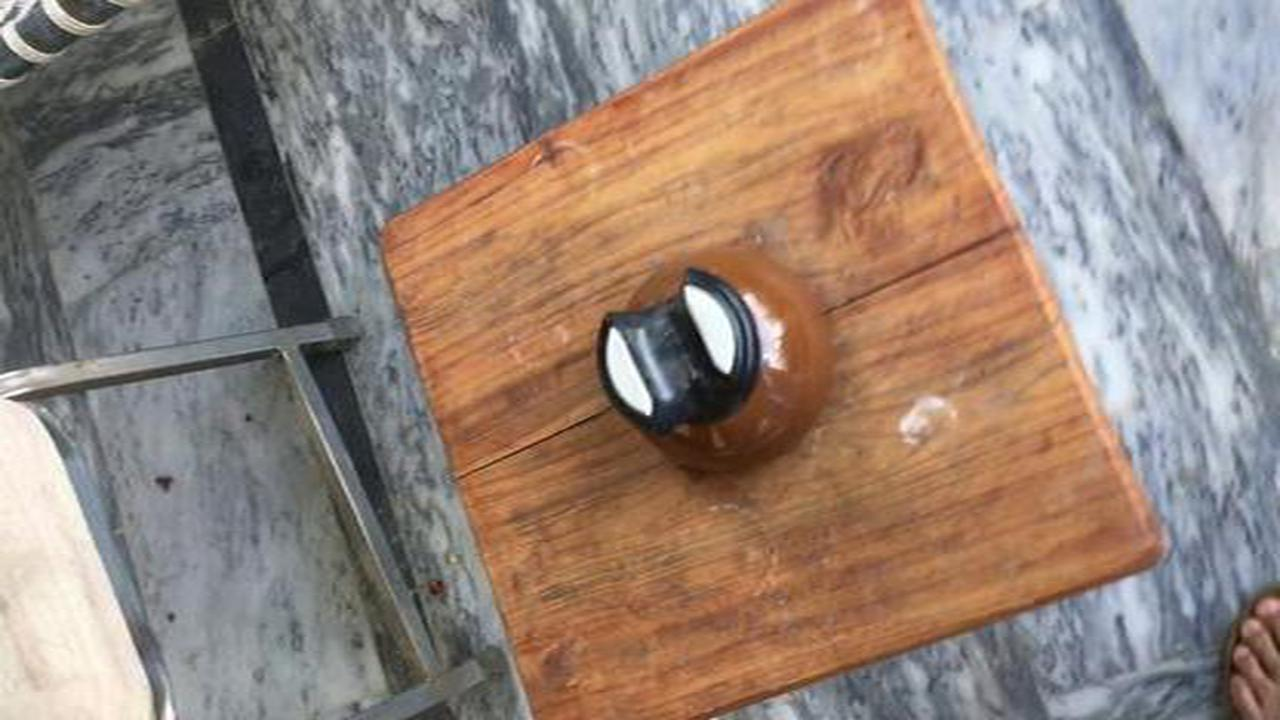insulator_pin: (576, 236, 862, 492)
